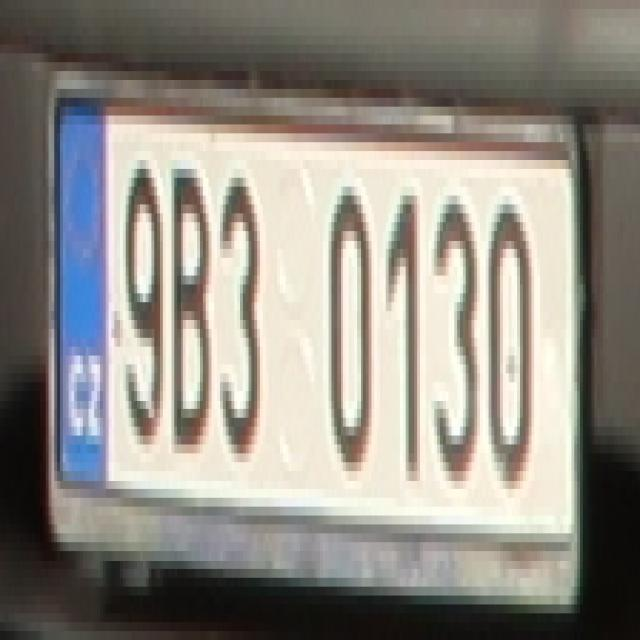0: (486, 204, 538, 489), (326, 178, 374, 454)
1: (388, 195, 423, 480)
3: (437, 187, 480, 462), (220, 168, 260, 444)
9: (123, 160, 160, 436)
B: (172, 151, 212, 436)
